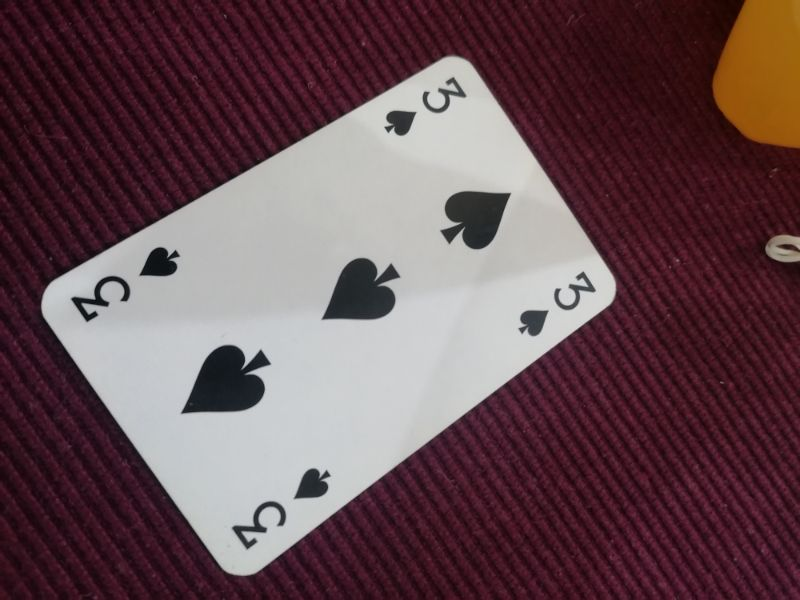3s: (230, 461, 339, 552), (67, 243, 185, 327), (514, 264, 601, 338), (380, 71, 471, 140)
